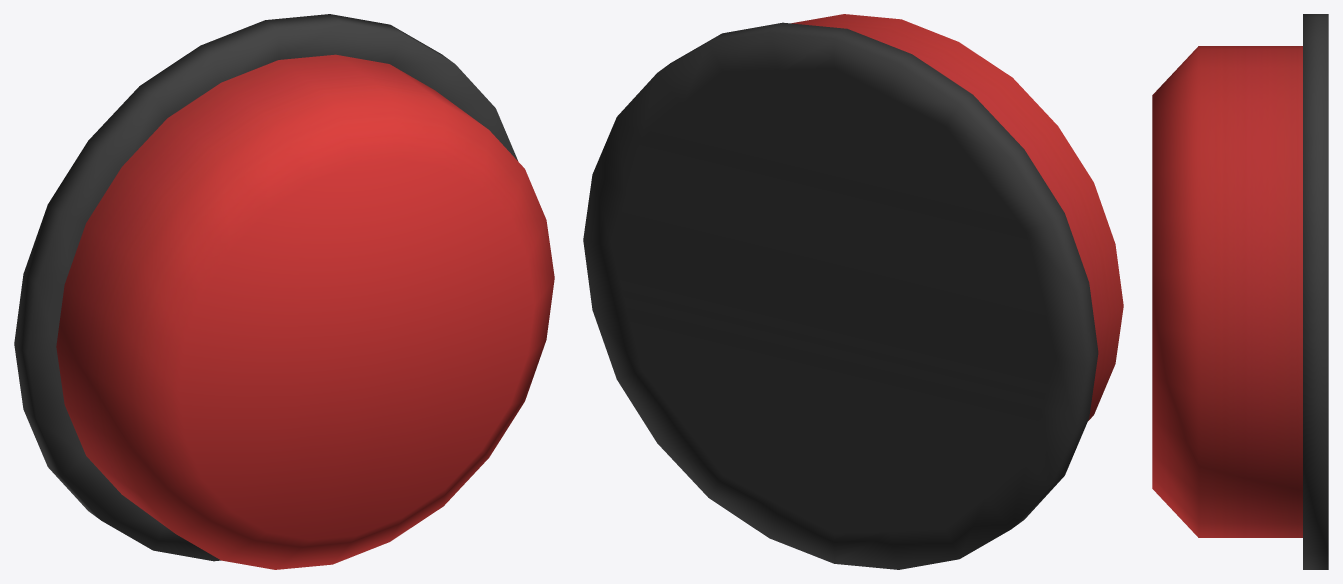
File: Button.fbx
The picture shows the model from 3 angles, left to right: view 1: azimuth 30°, elevation 25°; view 2: azimuth 150°, elevation 25°; view 3: azimuth 270°, elevation 25°; orthographic projection. The views are drawn at different scales.
Visible parts, largest first — view 1: Cube; view 2: Cube; view 3: Cube.
Boxes of the visible parts, <box> form: Cube: <box>14,14,554,569</box>; Cube: <box>583,14,1123,569</box>; Cube: <box>1152,14,1328,569</box>.
Size of the model in its own units: 127 by 127 by 40.2.
